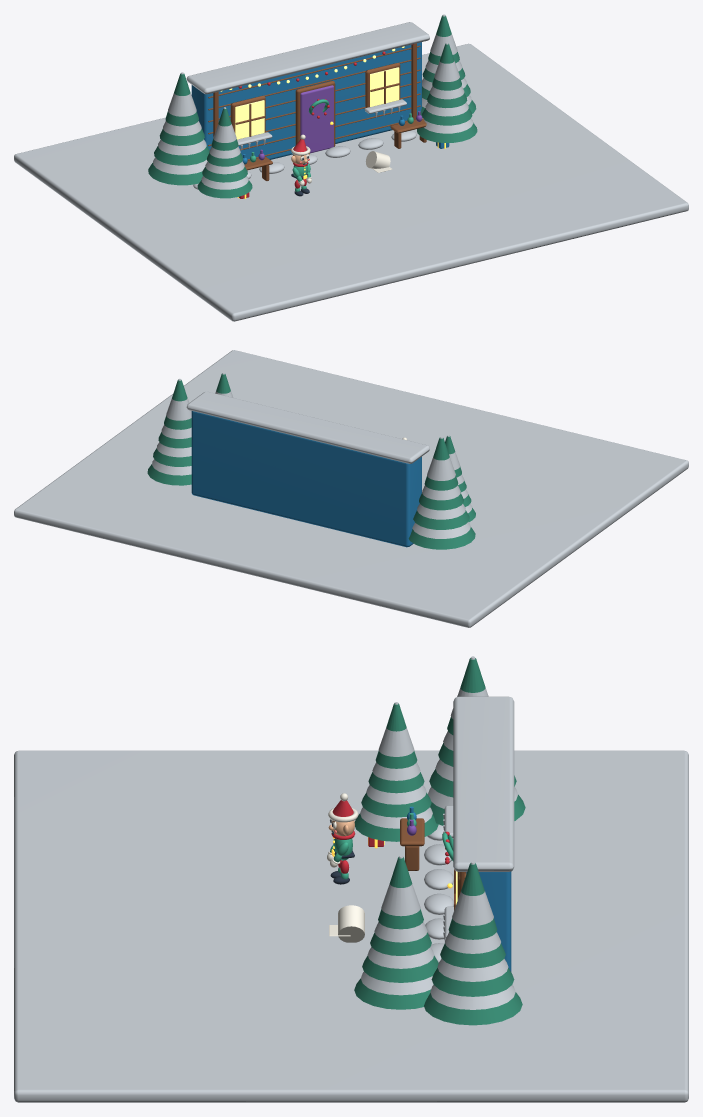
Rendered from chapter-15.glb.
3 views of the same model, one above another, from view 1: azimuth 30°, elevation 25°; view 2: azimuth 150°, elevation 25°; view 3: azimuth 270°, elevation 25° (orthographic). The views are drawn at different scales.
Visible parts, largest first — view 1: Schneeboden, Werkstatt, Schneegesims, Wichteltür, Warmes Fenster, Warmes Fenster.001, Tannenzweig.008, Tannenzweig.009, Tannenzweig.004, Türrahmen, Tannenzweig.011, Schnee.011 (+6 smaller); view 2: Schneeboden, Werkstatt, Schneegesims, Tannenzweig.008, Tannenzweig.009, Tannenzweig.011, Schnee.008, Schnee.011, Tannenzweig.015, Tannenzweig.012, Tannenzweig.010, Schnee.009 (+1 smaller); view 3: Schneeboden, Schneegesims, Werkstatt, Tannenzweig.012, Tannenzweig.013, Tannenzweig.015, Schnee.012, Tannenzweig.005, Tannenzweig.004, Schnee.015, Tannenzweig.007, Schnee.013 (+15 smaller).
Part boxes in pixels (x1,y1,x2,y2): Schneeboden: [14, 43, 688, 321]; Werkstatt: [191, 42, 421, 159]; Schneegesims: [186, 22, 429, 94]; Wichteltür: [300, 85, 333, 153]; Warmes Fenster: [235, 100, 264, 139]; Warmes Fenster.001: [370, 67, 399, 106]; Tannenzweig.008: [148, 163, 202, 185]; Tannenzweig.009: [154, 146, 209, 165]; Tannenzweig.004: [417, 122, 477, 142]; Türrahmen: [295, 81, 335, 146]; Tannenzweig.011: [165, 73, 198, 126]; Schnee.011: [168, 72, 196, 116]; Schneeboden: [14, 350, 688, 627]; Werkstatt: [191, 411, 421, 547]; Schneegesims: [186, 391, 429, 463]; Tannenzweig.008: [408, 527, 475, 549]; Tannenzweig.009: [413, 510, 469, 529]; Tannenzweig.011: [424, 437, 458, 490]; Schnee.008: [412, 522, 470, 538]; Schnee.011: [427, 436, 455, 480]; Tannenzweig.015: [164, 380, 191, 429]; Tannenzweig.012: [147, 464, 191, 485]; Tannenzweig.010: [419, 493, 463, 510]; Schnee.009: [417, 504, 465, 519]; Schneeboden: [14, 750, 688, 1102]; Schneegesims: [453, 696, 514, 871]; Werkstatt: [466, 871, 511, 971]; Tannenzweig.012: [424, 992, 522, 1025]; Tannenzweig.013: [431, 968, 514, 996]; Tannenzweig.015: [448, 863, 497, 939]; Schnee.012: [430, 985, 515, 1009]; Tannenzweig.005: [362, 955, 438, 982]; Tannenzweig.004: [354, 978, 430, 1009]; Schnee.015: [452, 861, 493, 925]; Tannenzweig.007: [378, 857, 423, 929]; Schnee.013: [437, 959, 508, 981].
Size of the model in its own units: 18 by 4.39 by 15.
